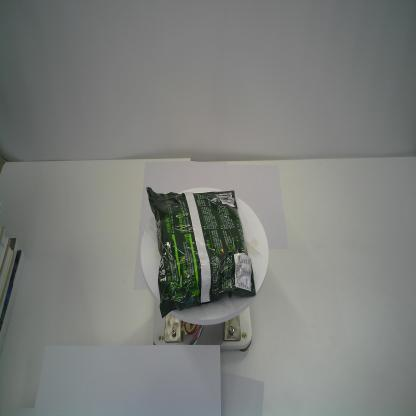Instant Noodles: (144, 184, 258, 322)
